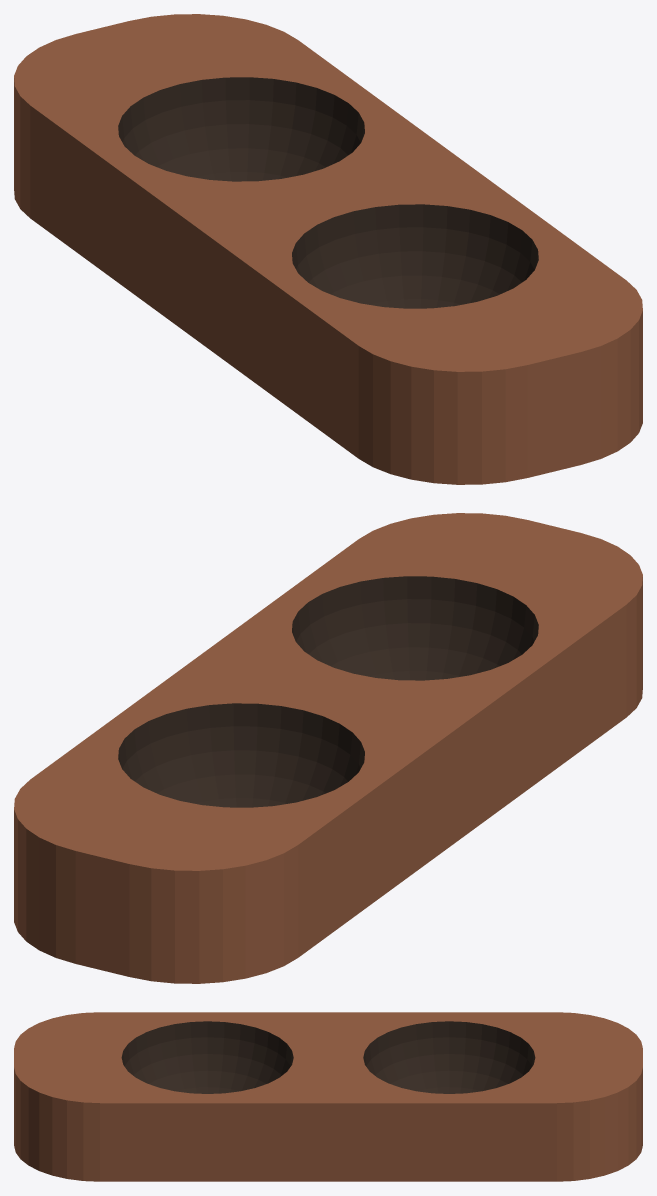
The model's file is Rounded Cannon Ball Holder 2 Ball.fbx.
3 views of the same model, one above another, from view 1: azimuth 30°, elevation 25°; view 2: azimuth 150°, elevation 25°; view 3: azimuth 270°, elevation 25° (orthographic). The views are drawn at different scales.
Parts seen in each view (by area): view 1: Rounded Cannon Ball Holder 2 Ball; view 2: Rounded Cannon Ball Holder 2 Ball; view 3: Rounded Cannon Ball Holder 2 Ball.
Part boxes in pixels (x1=…): Rounded Cannon Ball Holder 2 Ball: x1=14, y1=14, x2=642, y2=484; Rounded Cannon Ball Holder 2 Ball: x1=14, y1=513, x2=642, y2=983; Rounded Cannon Ball Holder 2 Ball: x1=14, y1=1012, x2=642, y2=1181.
Bounding box in the file's own units: 250 × 101 × 731.
